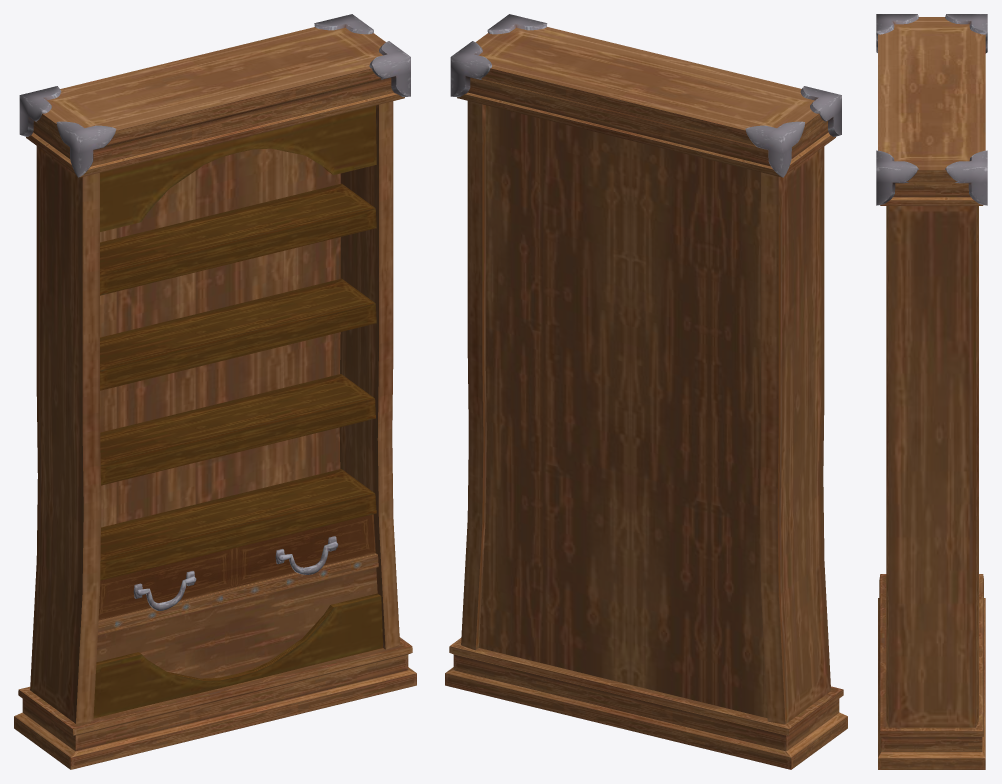
File: quaternius-fantasy-props-bookcase-2.glb
3 views of the same model, side by side, from view 1: azimuth 30°, elevation 25°; view 2: azimuth 150°, elevation 25°; view 3: azimuth 270°, elevation 25° (orthographic). The views are drawn at different scales.
Visible parts, largest first — view 1: Bookcase_2; view 2: Bookcase_2; view 3: Bookcase_2.
Part boxes in pixels (x1=…): Bookcase_2: x1=14, y1=14, x2=416, y2=769; Bookcase_2: x1=445, y1=14, x2=847, y2=769; Bookcase_2: x1=876, y1=14, x2=987, y2=769.
Bounding box in the file's own units: 1.03 × 1.8 × 0.3034.
Materials: 2 (2 with a texture image).
